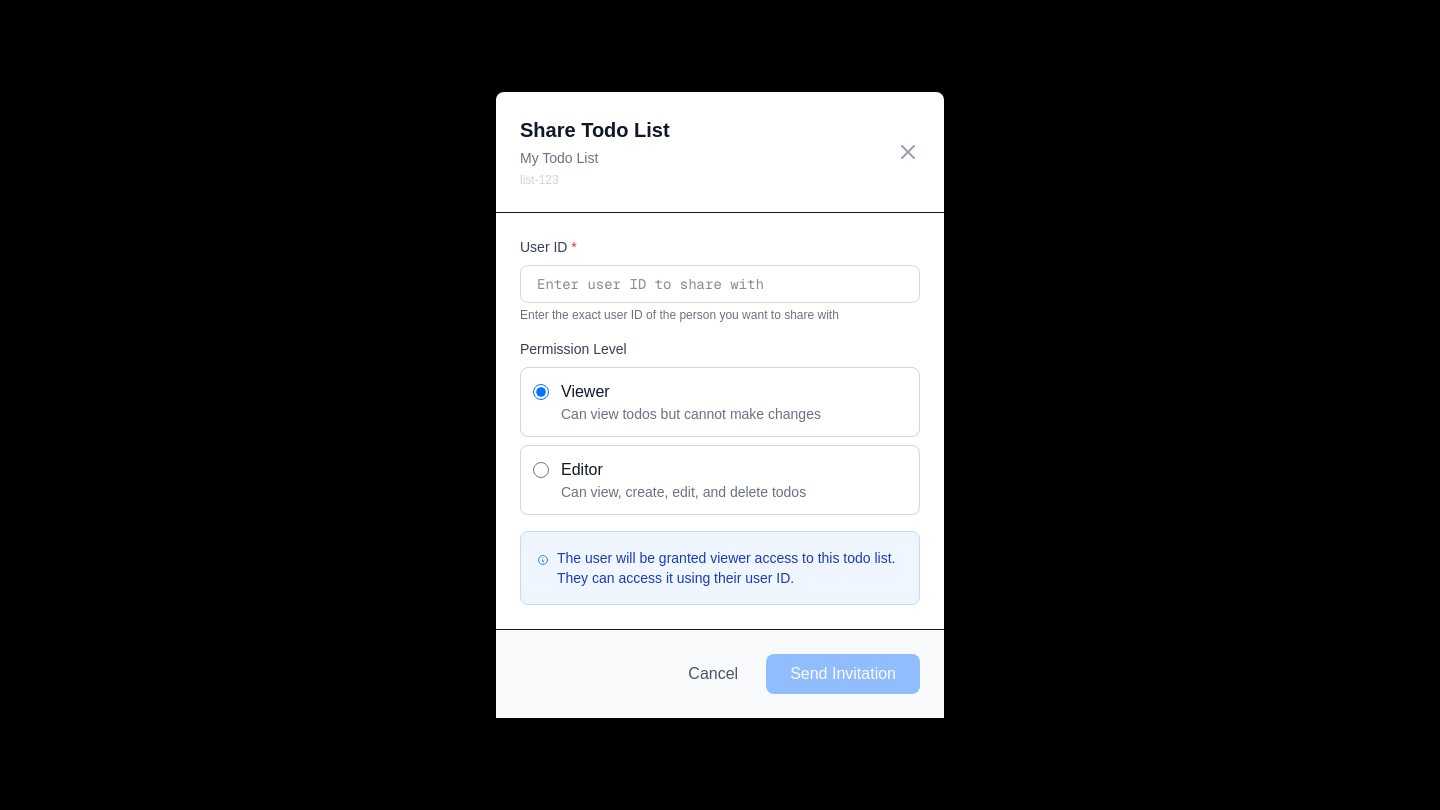
ShareModal › Form Interactions › should enable send button when user ID is filled
The image size is (1440, 810).
In the field with placeholder "Enter user ID to share with": (720, 284) [520, 265, 920, 303], type "user-789"
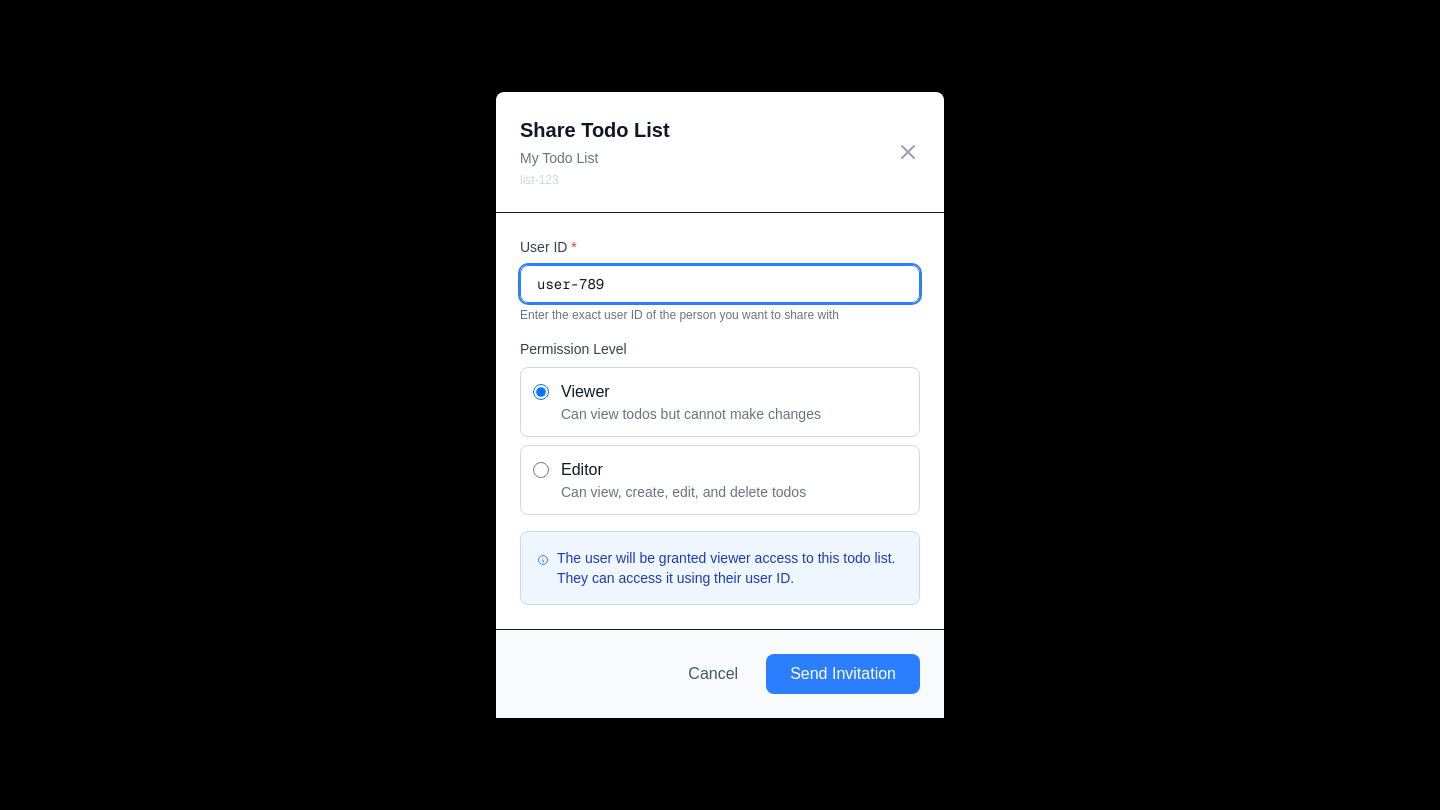
Result: the button "Send Invitation" is enabled at [766, 654, 920, 694]
